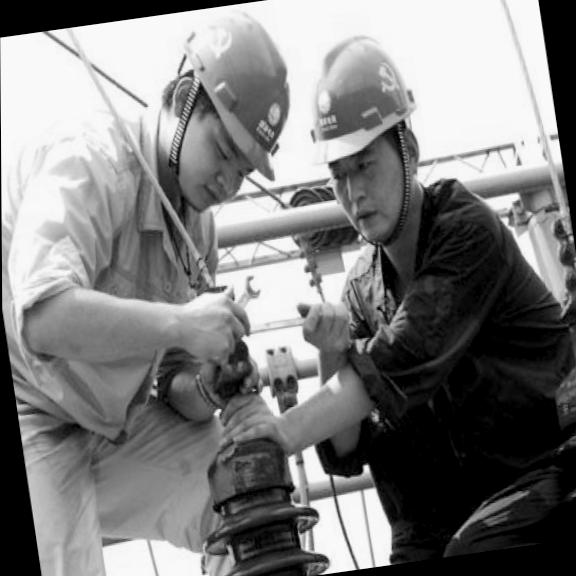no_safety_vest: (1, 85, 240, 421), (329, 195, 576, 481)
